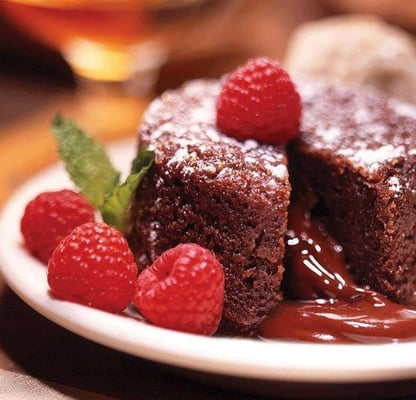sushi: (282, 13, 416, 312)
